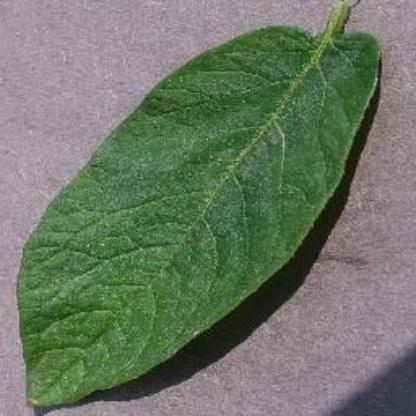Healthy-plant: (16, 20, 404, 404)
